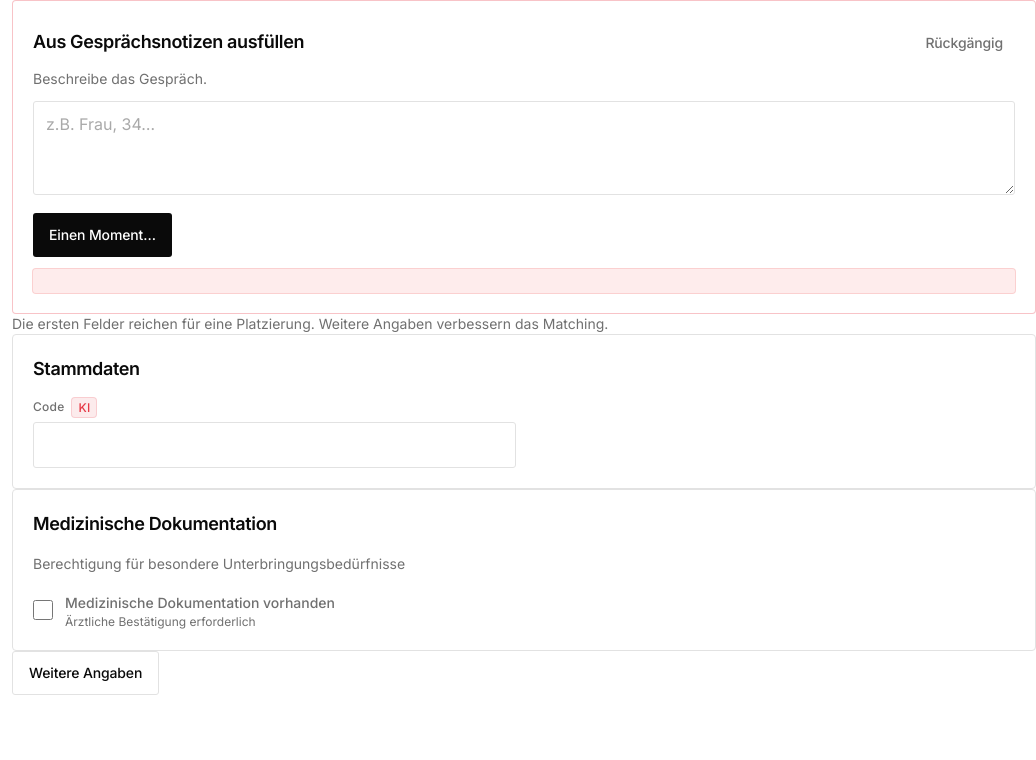
ResidentFormFields — MedicalDocumentationSection › shows doc-type fields when checkbox clicked
Click the checkbox labelled "Medizinische Dokumentation vorhanden" at coordinates (43, 610), box [33,600,53,620]
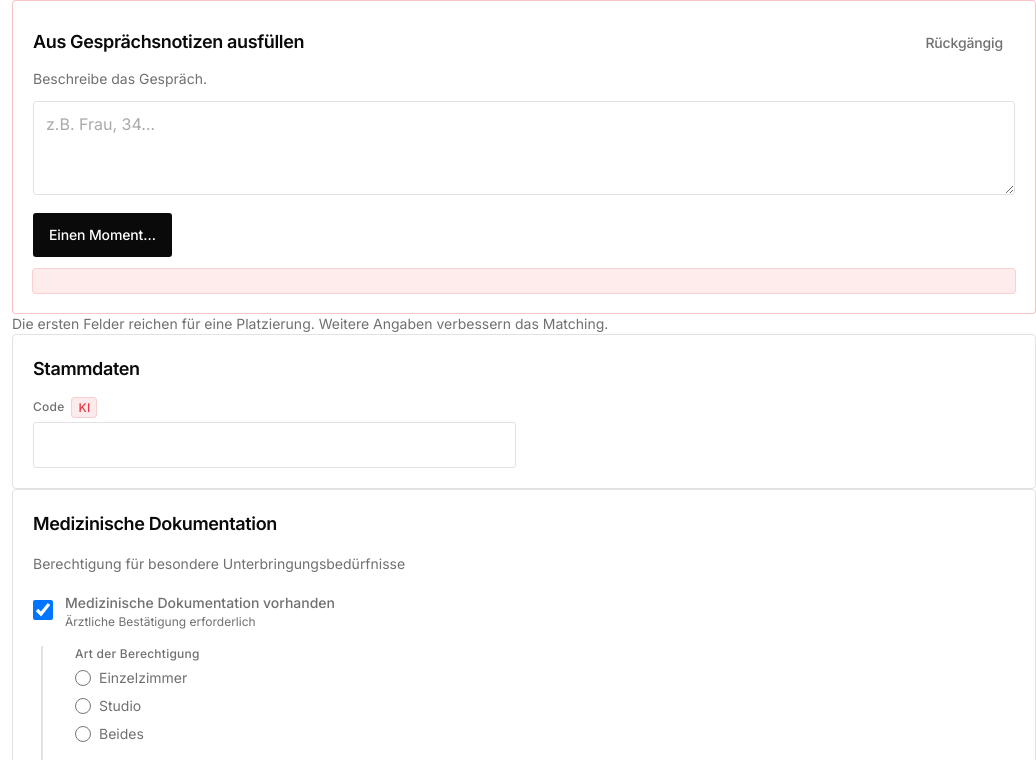
Result: the text "Art der Berechtigung" is shown at [75,646,200,661]
